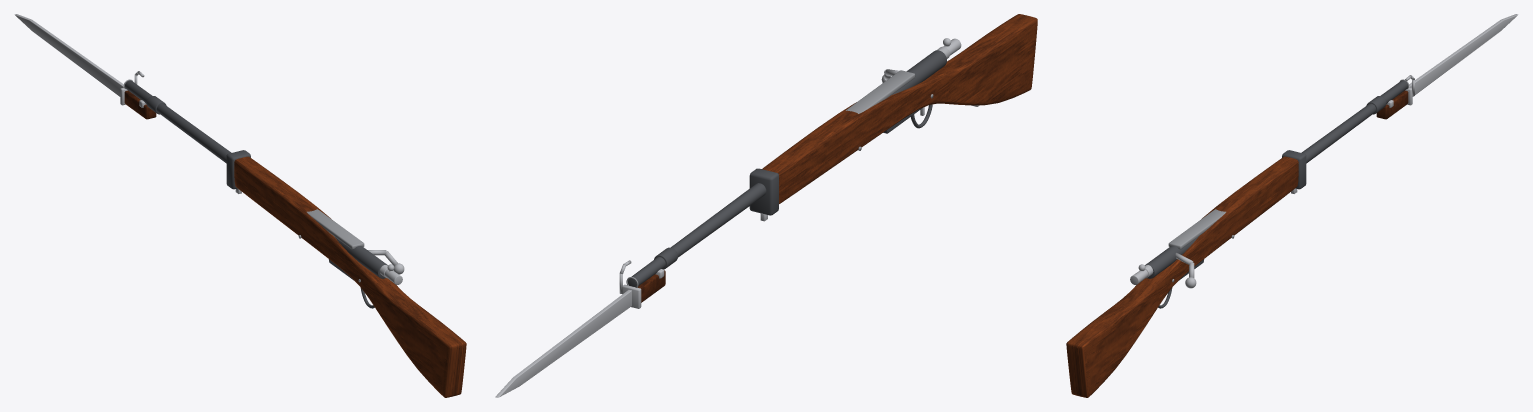
Rendered from arisaka.glb.
3 renders of one model, left to right at view 1: azimuth 30°, elevation 25°; view 2: azimuth 150°, elevation 25°; view 3: azimuth 330°, elevation 25°, orthographic. The views are drawn at different scales.
Parts seen in each view (by area): view 1: stock, bayo_blade, barrel, dust_cover, receiver, band_0, bayo_grip; view 2: stock, bayo_blade, barrel, band_0, dust_cover, receiver; view 3: stock, bayo_blade, barrel, dust_cover, receiver, band_0, bayo_grip.
Part boxes in pixels (<box>): stock: <box>234,156,466,397</box>; bayo_blade: <box>14,14,123,96</box>; barrel: <box>125,80,231,163</box>; dust_cover: <box>307,209,364,249</box>; receiver: <box>334,236,387,278</box>; band_0: <box>226,150,250,189</box>; bayo_grip: <box>124,90,156,119</box>; stock: <box>762,14,1037,203</box>; bayo_blade: <box>495,290,631,397</box>; barrel: <box>628,183,766,287</box>; band_0: <box>749,168,778,215</box>; dust_cover: <box>846,70,915,113</box>; receiver: <box>891,50,946,95</box>; stock: <box>1066,156,1298,397</box>; bayo_blade: <box>1409,14,1518,96</box>; barrel: <box>1301,80,1407,163</box>; dust_cover: <box>1168,209,1225,249</box>; receiver: <box>1145,236,1198,278</box>; band_0: <box>1282,150,1306,189</box>; bayo_grip: <box>1376,90,1408,119</box>.
Size of the model in its own units: 0.0885 by 0.1726 by 1.58.
Materials: 5 (2 with a texture image).
